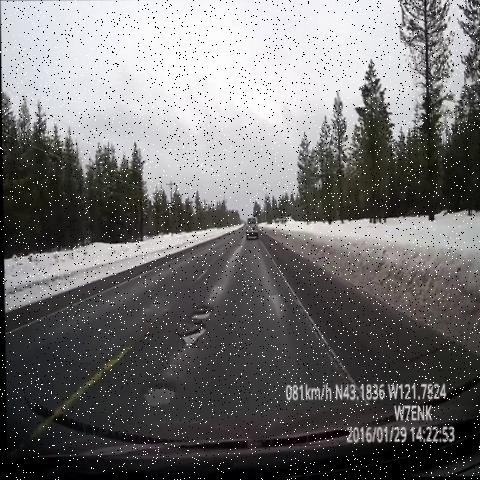pothole: (137, 370, 181, 425), (168, 318, 210, 362), (188, 299, 219, 326)
